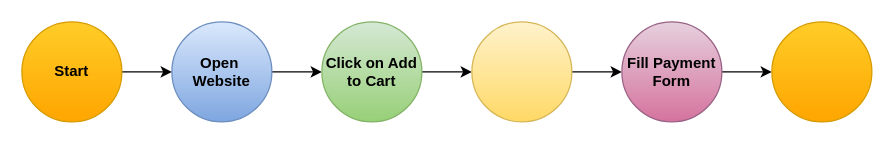
This 894x144 diagram has some shape labels left out. The shapes that lost their labels are listed below. From the top down, each one's centre as x and y in pixels, then its label:
point (521, 71): Go to Checkout
point (821, 71): Finish
